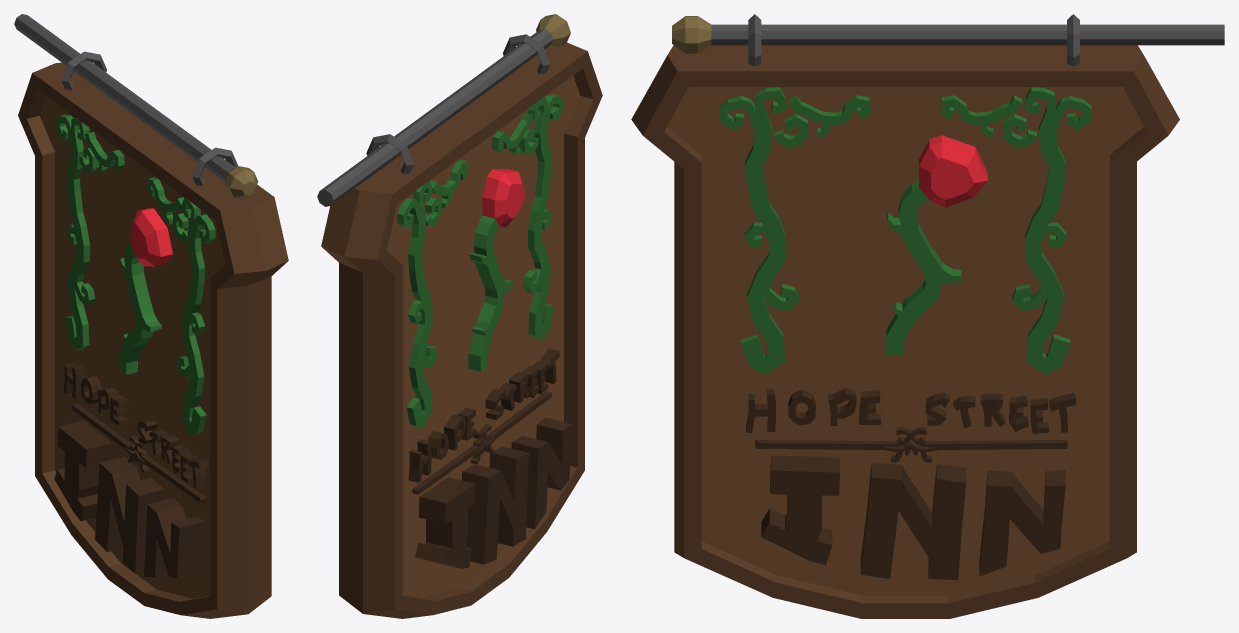
The model's file is Sign1.fbx.
3 renders of one model, left to right at view 1: azimuth 30°, elevation 25°; view 2: azimuth 150°, elevation 25°; view 3: azimuth 270°, elevation 25°, orthographic. The views are drawn at different scales.
Visible parts, largest first — view 1: Sign1; view 2: Sign1; view 3: Sign1.
Boxes of the visible parts, box(x1,y1,x2,y2) form: Sign1: box(14, 14, 288, 618); Sign1: box(317, 14, 602, 618); Sign1: box(631, 14, 1224, 618).
Bounding box in the file's own units: 13.2 × 78.05 × 70.18.
